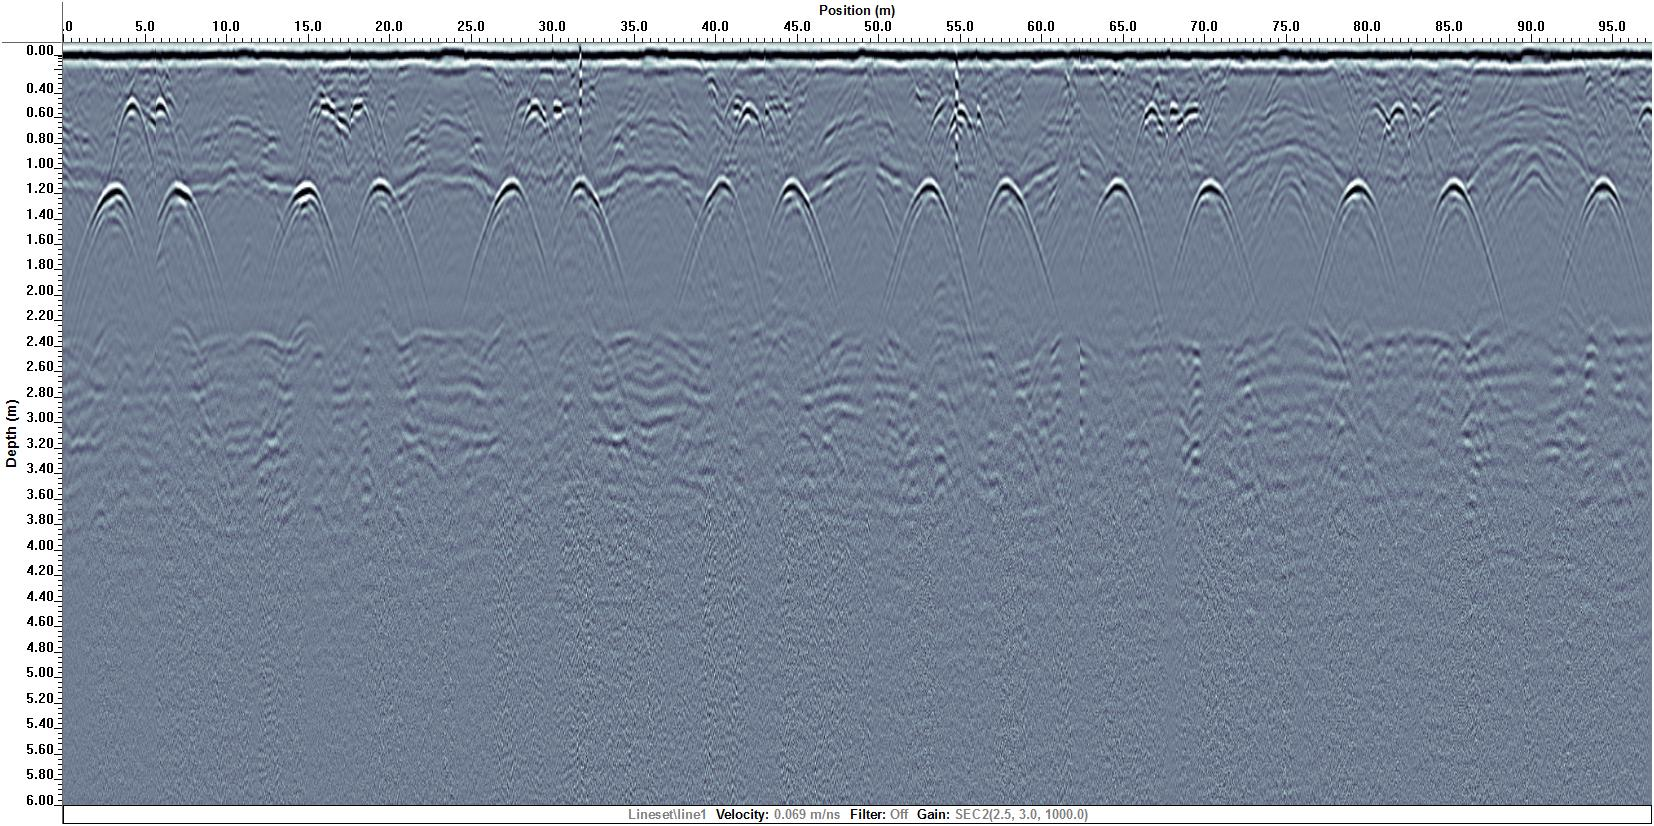hyperbola: (1419, 177, 1503, 301), (1173, 179, 1257, 303), (1075, 180, 1159, 304), (342, 181, 426, 305), (266, 179, 350, 303), (1312, 176, 1396, 300), (969, 177, 1053, 301), (888, 176, 972, 300), (754, 176, 838, 300), (678, 177, 762, 301), (547, 178, 631, 302), (465, 179, 549, 303), (71, 184, 147, 296), (142, 183, 218, 294), (1569, 175, 1641, 282), (109, 91, 146, 164), (519, 97, 546, 145), (1385, 101, 1412, 148), (738, 102, 765, 149), (947, 105, 974, 152), (1140, 104, 1167, 151)
